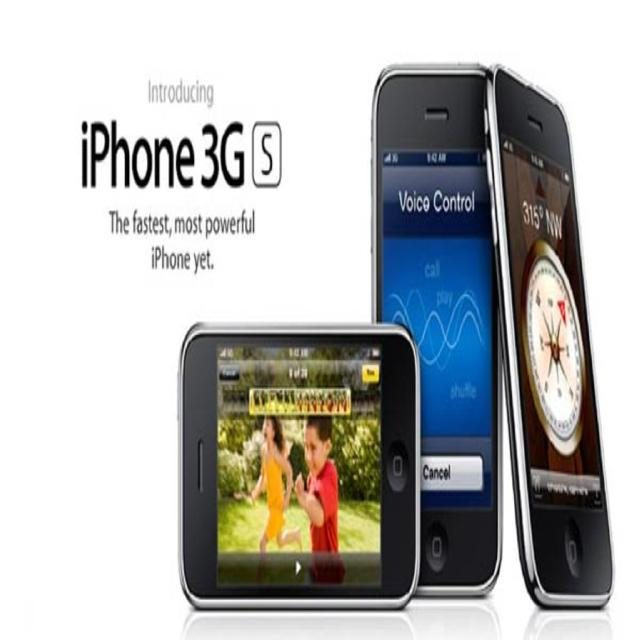Mobile-phone: (370, 51, 506, 604), (482, 51, 616, 610), (176, 316, 423, 606)
